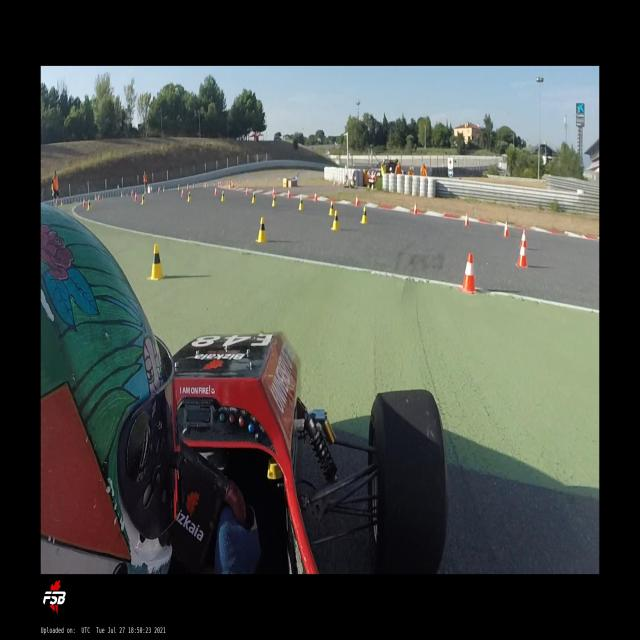orange_cone: (458, 253, 477, 295), (516, 240, 528, 268), (519, 228, 527, 250), (502, 220, 509, 238), (464, 212, 470, 227), (298, 197, 304, 211), (354, 194, 360, 207), (413, 202, 418, 215), (314, 191, 318, 202), (287, 188, 291, 198), (82, 198, 86, 207), (214, 187, 218, 196), (134, 192, 138, 201), (272, 187, 275, 197), (181, 188, 184, 198), (120, 191, 124, 198), (246, 187, 249, 196), (158, 186, 161, 194), (131, 190, 133, 197), (163, 186, 165, 192)
yellow_cone: (147, 243, 166, 280), (255, 216, 268, 243), (330, 210, 340, 231), (360, 206, 368, 225), (328, 200, 335, 216), (298, 197, 304, 211), (271, 194, 277, 207), (87, 200, 92, 210), (141, 194, 146, 204), (221, 190, 225, 202), (252, 192, 256, 204), (187, 191, 191, 202), (120, 191, 124, 198), (177, 184, 180, 191), (60, 200, 63, 206)
